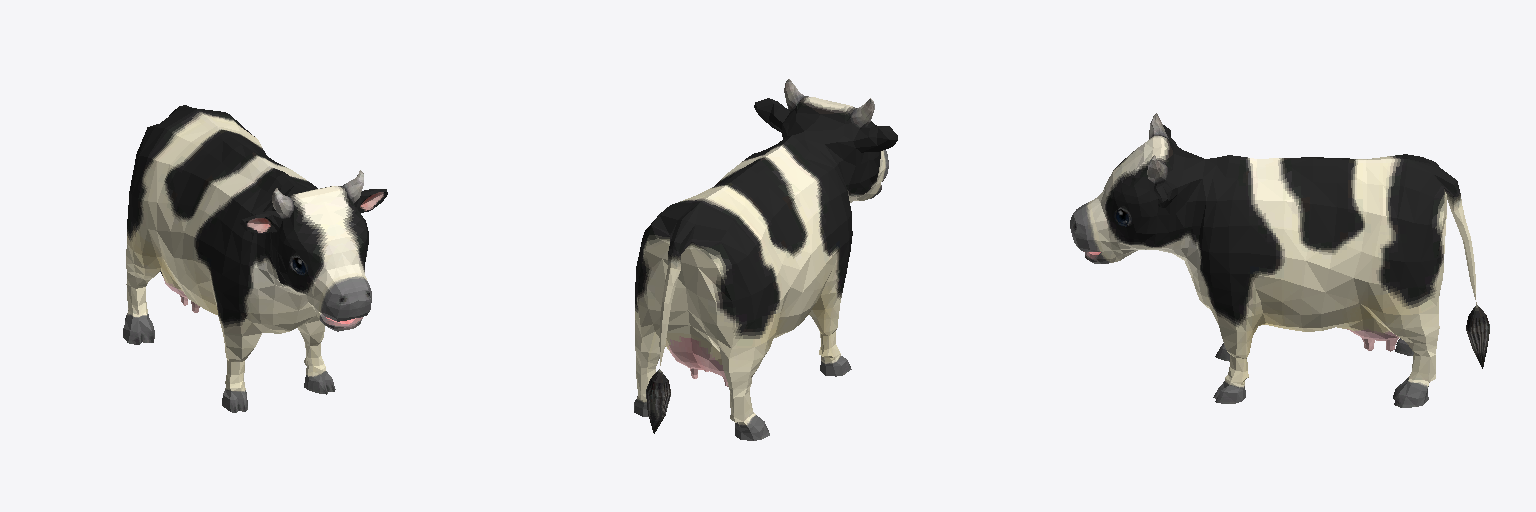
3 renders of one model, left to right at view 1: azimuth 30°, elevation 25°; view 2: azimuth 150°, elevation 25°; view 3: azimuth 270°, elevation 25°, orthographic.
Parts seen in each view (by area): view 1: Cow; view 2: Cow; view 3: Cow.
Boxes of the visible parts, <box> form: Cow: <box>123,105,387,412</box>; Cow: <box>634,79,897,440</box>; Cow: <box>1070,113,1489,407</box>.
Size of the model in its own units: 0.8876 by 1.43 by 2.22.
3 materials, 3 textured.